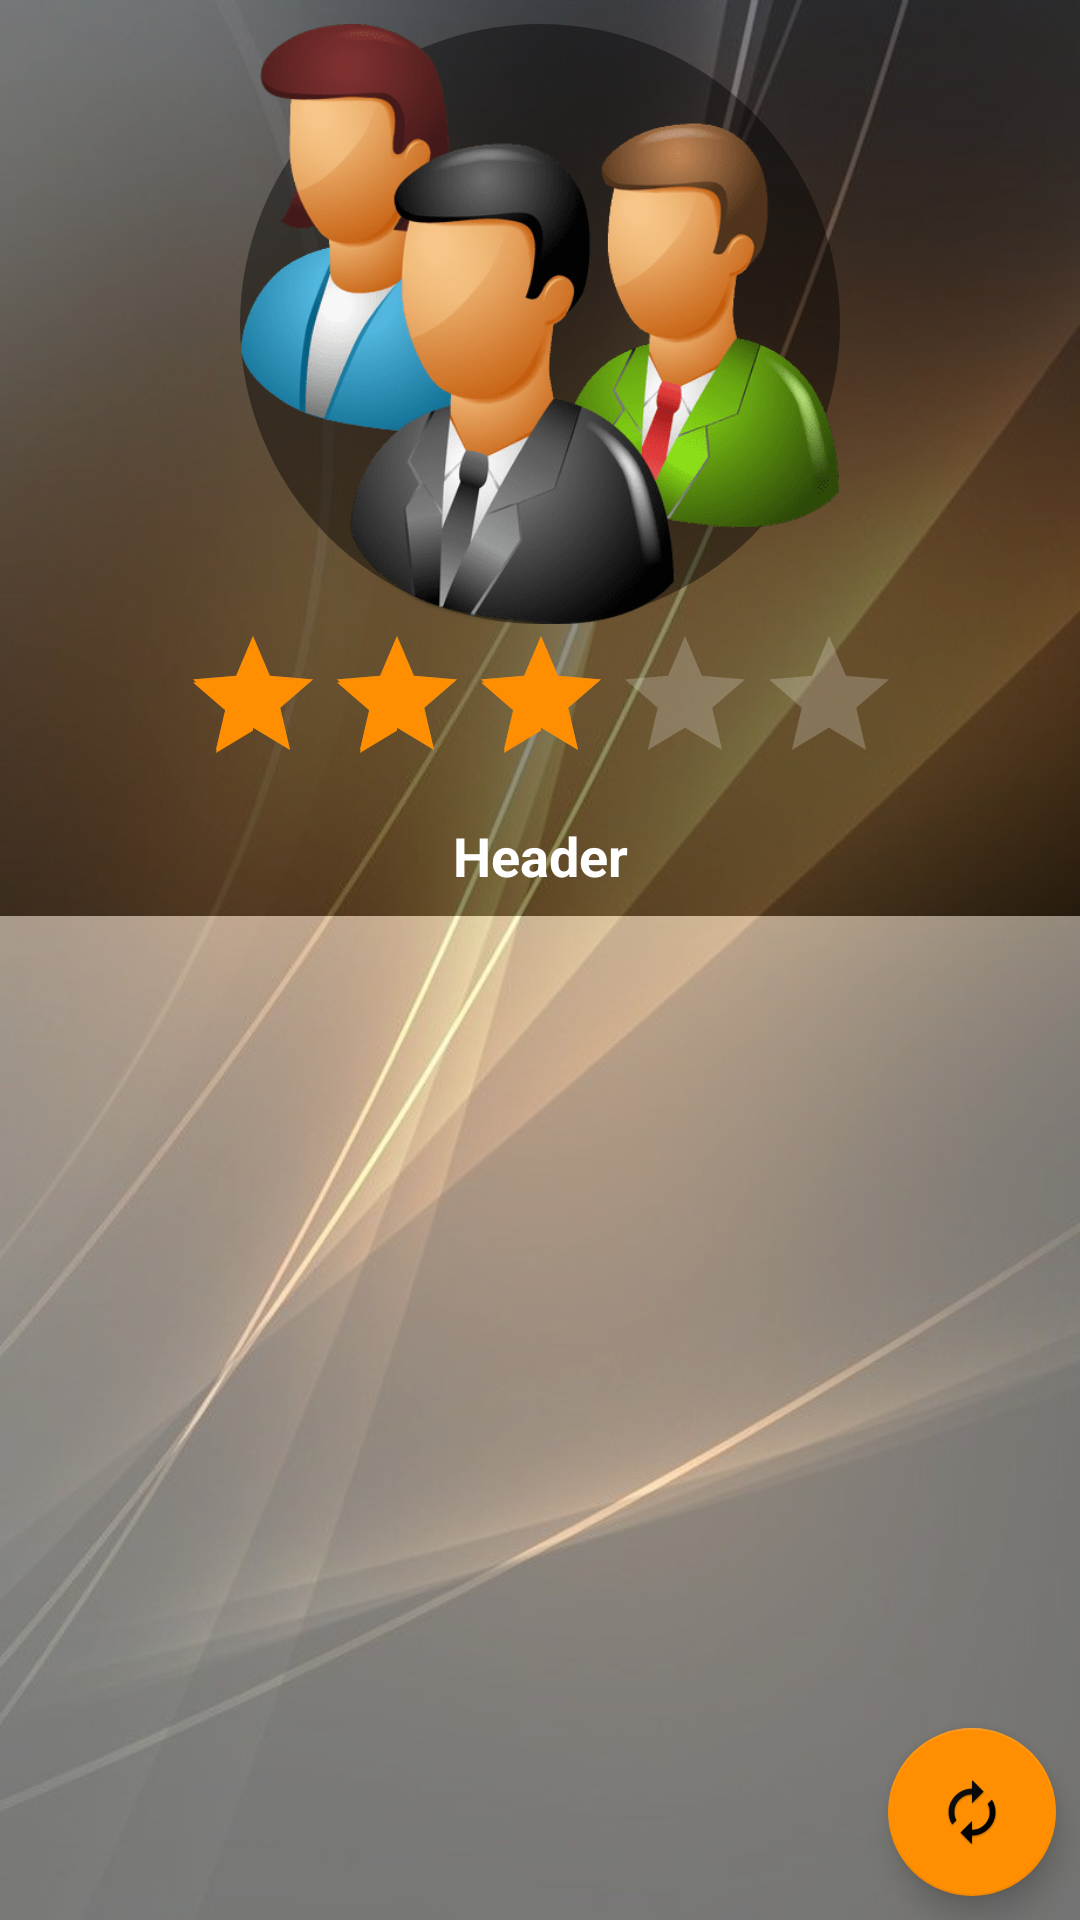

Where to tap for icons on this 1080 × 1920 app screen, as [x,y]:
sync: [972,1812]
